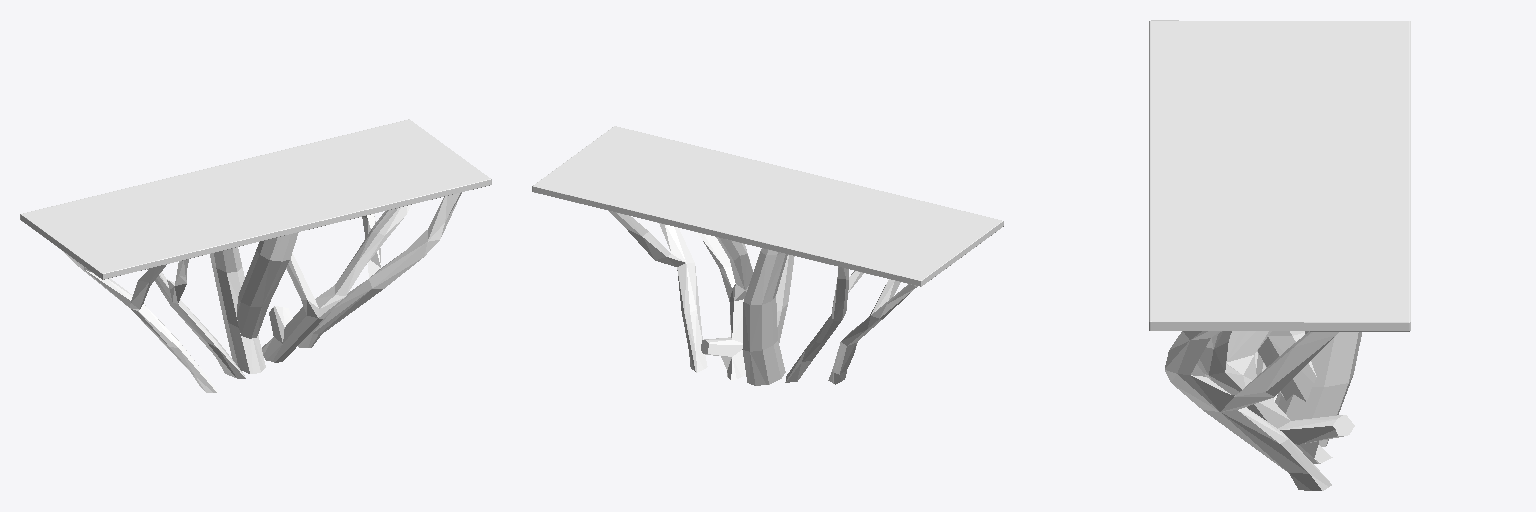
URDF robot description (table):
<?xml version="0.0" ?>
<robot name="table">
  <link name="tableLink">
  <contact>
      <lateral_friction value="1"/>
  </contact>
    <inertial>
      <origin rpy="0 0 0" xyz="2 1 0"/>
       <mass value=".0"/>
       <inertia ixx="0" ixy="0" ixz="0" iyy="0" iyz="0" izz="0"/>
    </inertial>
    <visual>
      <origin rpy="1.57 0 0" xyz="0 0 0"/>
      <geometry>
				<!--<mesh filename="Table/Table_1_obj.obj" scale="2.7 2.7 2.7"/> -->
        <mesh filename="bar/bar.obj" scale="0.5 0.4 1"/> 
      </geometry>
       <material name="white">
        <color rgba="1 1 1 1"/>
      </material>
    </visual>
     <collision>
      <origin rpy="1.57 0 0" xyz="0 0 0"/>
      <geometry>
        <!-- <box size="3.24 3 1.08"/> -->
       <mesh filename="Table/Table_1_obj.obj" scale="2.7 2.7 2.7"/>
      </geometry>
    </collision>
  </link>

    <link name="tableLink2">
  <contact>
      <lateral_friction value="1"/>
  </contact>
    <inertial>
      <origin rpy="0 0 0" xyz="2 1 0"/>
       <mass value=".0"/>
       <inertia ixx="0" ixy="0" ixz="0" iyy="0" iyz="0" izz="0"/>
    </inertial>
    <visual>
      <origin rpy="1.57 0 0" xyz="5 0 0"/>
      <geometry>
				<!--<mesh filename="Table/Table_1_obj.obj" scale="2.7 2.7 2.7"/> -->
        <mesh filename="bar/bar3.obj" scale="0.8 1 0.8"/> 
      </geometry>
       <material name="white">
        <color rgba="1 1 1 1"/>
      </material>
    </visual>
     <collision>
      <origin rpy="1.57 0 0" xyz="0 0 0"/>
      <geometry>
        <!-- <box size="3.24 3 1.08"/> -->
       <mesh filename="Table/Table_1_obj.obj" scale="2.7 2.7 2.7"/>     
      </geometry>
    </collision>
  </link>

  <joint name="jfixed" type="fixed">
    <parent link="tableLink"/>
    <child link="tableLink2"/>
    <origin rpy="0 0 3.14" xyz="0 -6 0"/>
  </joint>

  </robot>

<!-- dimension x: 1.2 y: 0.1 z:0.4 
avec la scale : x:3.24 y:0.27 z: 1.08
-->

--- Facts derived from the render (not from the file) ---
Views: 3 orthographic renders of the robot side by side, from view 1: azimuth 30°, elevation 25°; view 2: azimuth 150°, elevation 25°; view 3: azimuth 270°, elevation 25°.
Robot: table — 2 links, 1 joints (1 fixed); root link tableLink; default pose: all joints at 0.
Links seen in each view (by area): view 1: tableLink; view 2: tableLink; view 3: tableLink.
Link boxes in pixels (x1,y1,x2,y2): tableLink: (20,119,491,392); tableLink: (532,126,1003,385); tableLink: (1149,20,1410,490).
Size in the robot's own frame: 3.34 by 1.23 by 1.4 metres.
1 mesh visuals loaded from 2 distinct referenced files (1 OBJ); not drawn: 1 (reference not matched to a file when rendering).